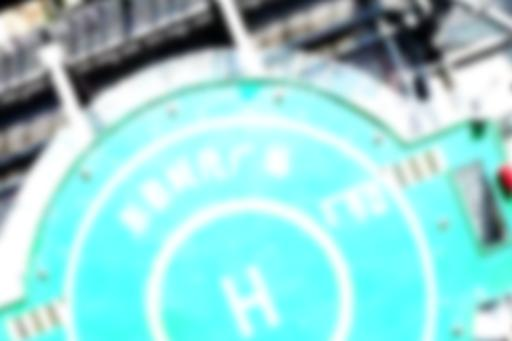Apron: (144, 198, 354, 341)
